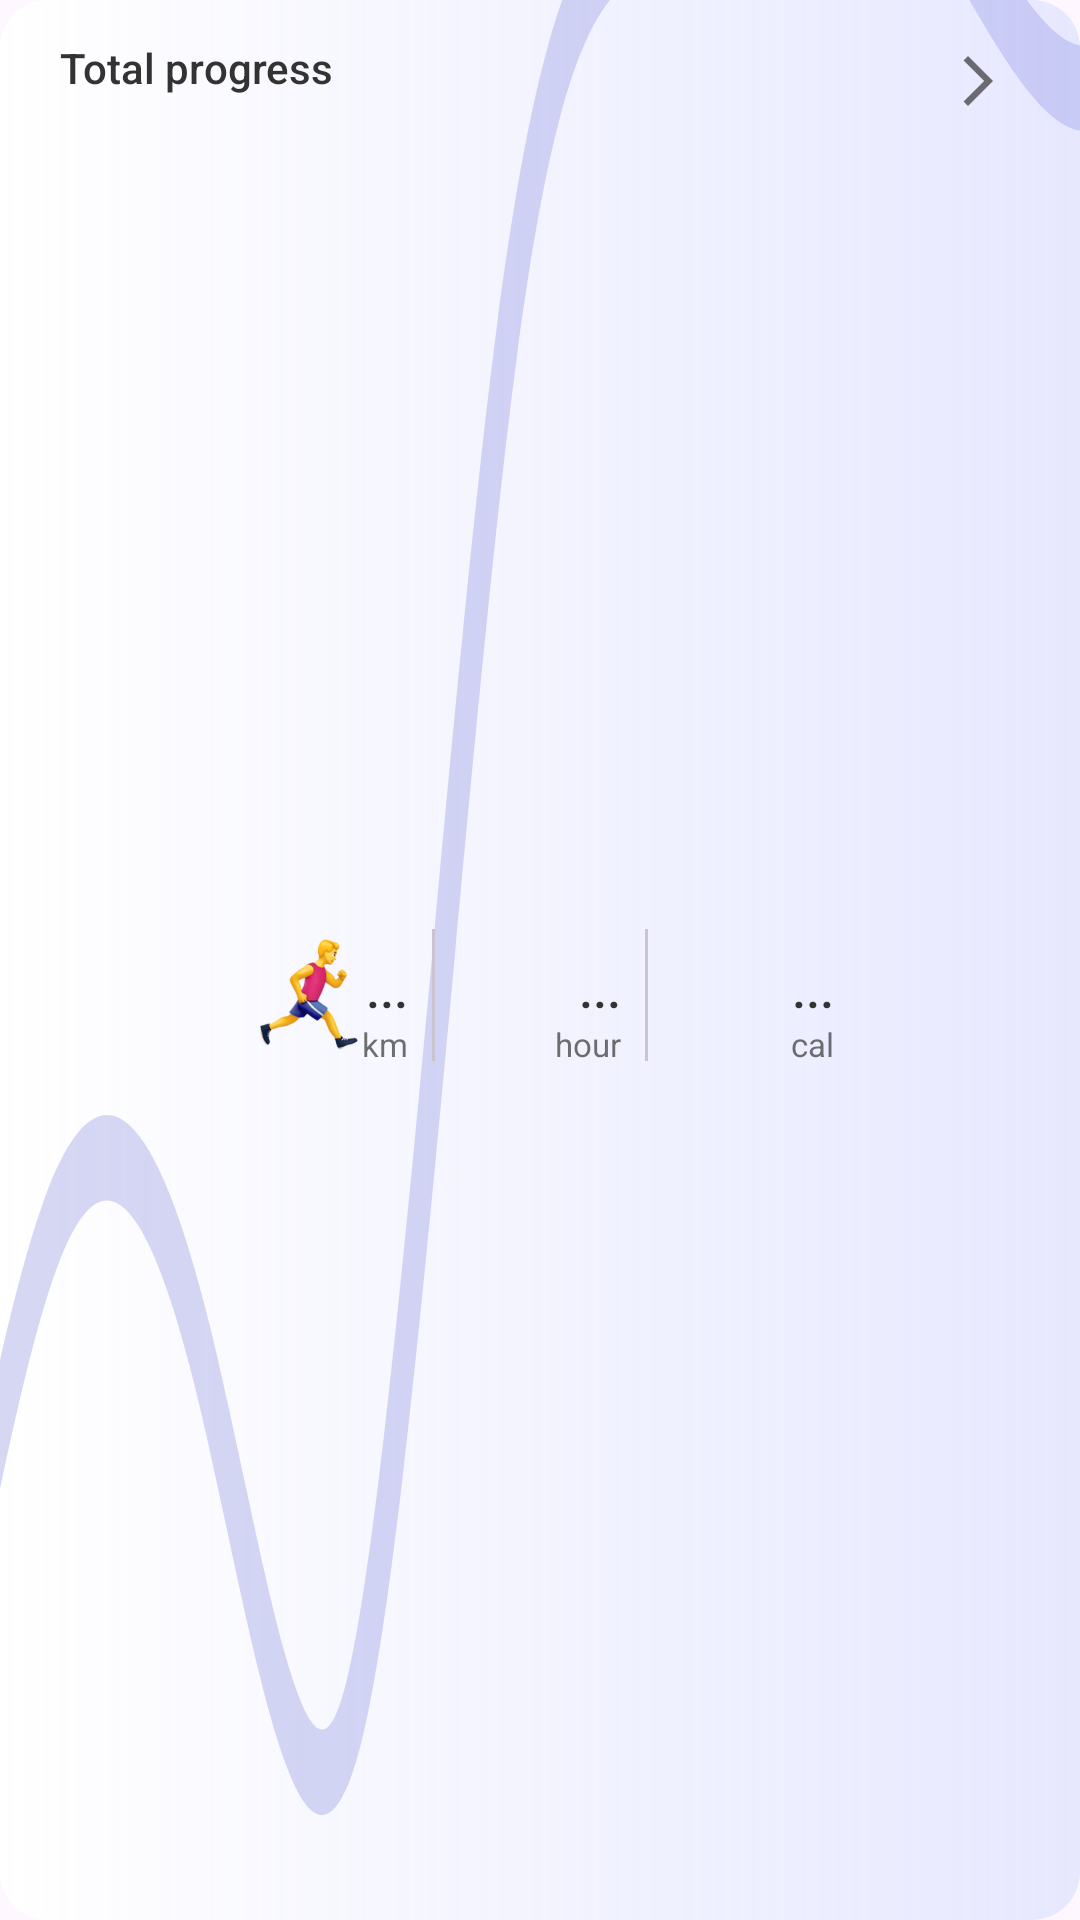

Where icons sit on this 1080px×1920px app screen, as bbox=(x1, y1, x2, y2):
now in running: bbox=(260, 939, 358, 1049)
